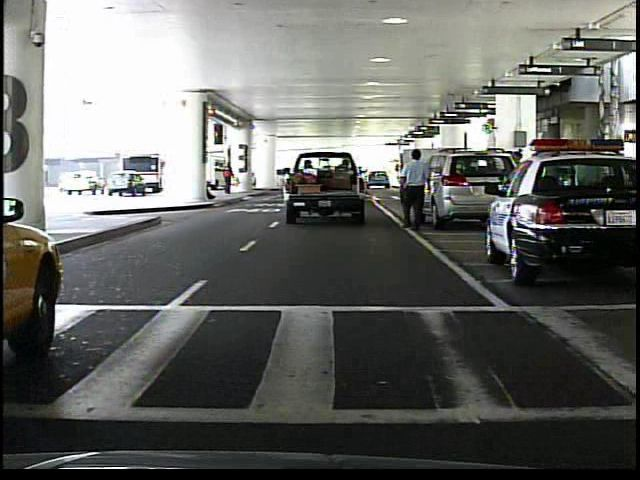person: (396, 146, 437, 231), (221, 160, 237, 197)
